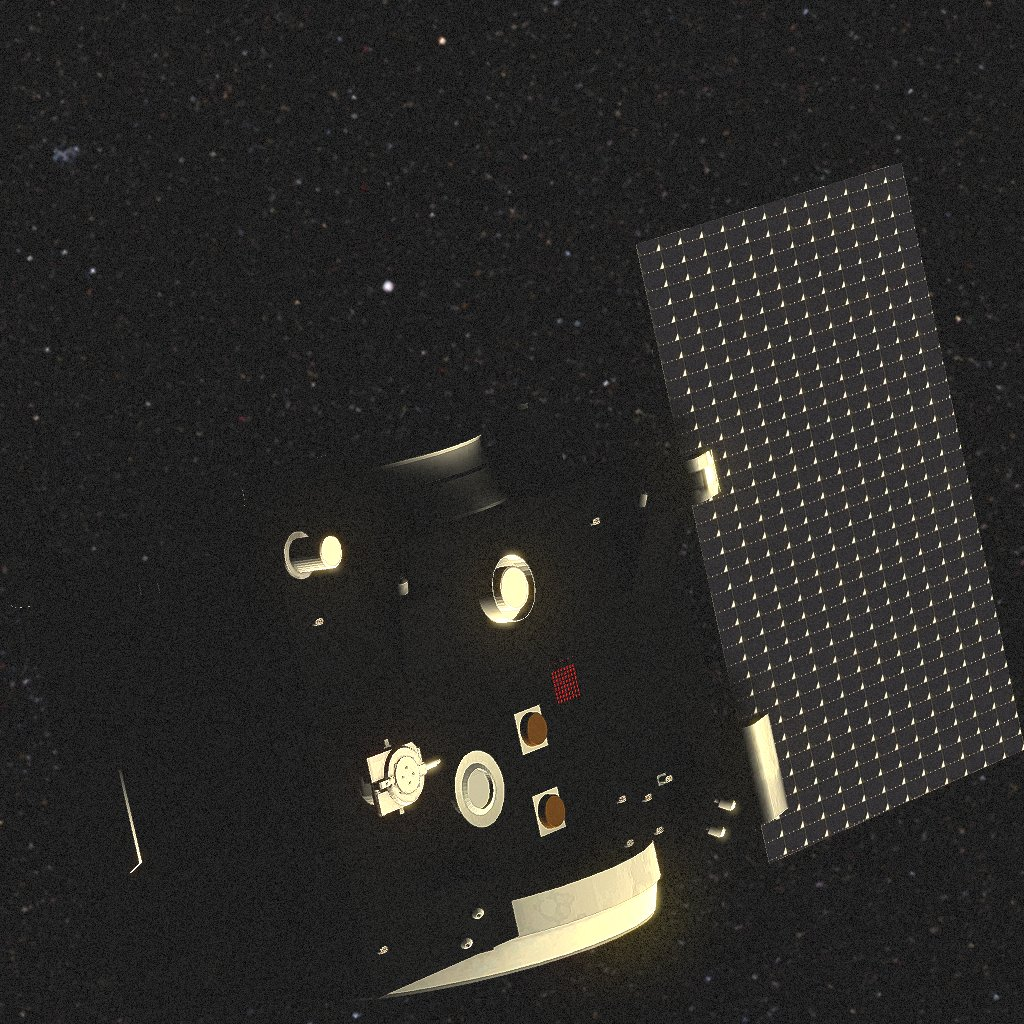proba_3_csc: (0, 163, 1024, 1016)
